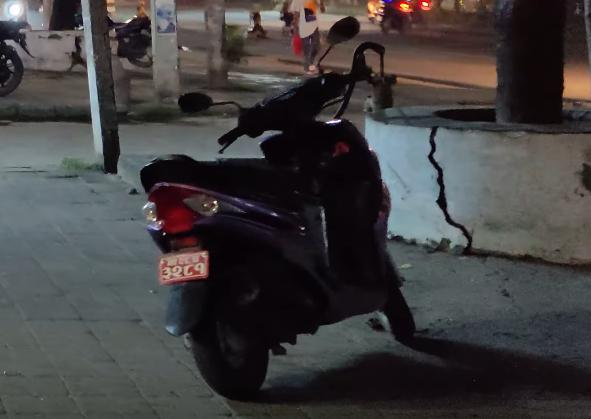scooter: (134, 55, 435, 402)
